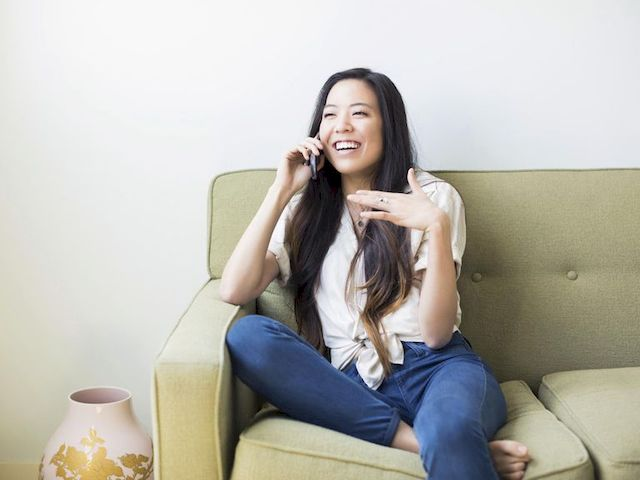phone: (301, 122, 325, 180)
talk: (278, 99, 381, 191)
